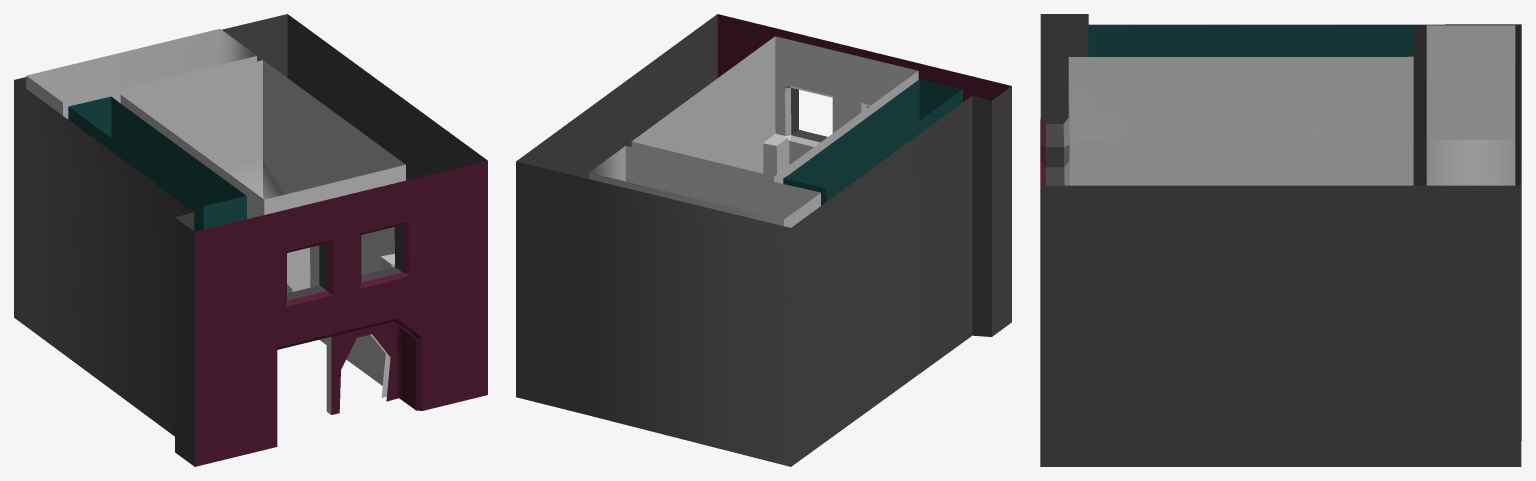
File: ShopWalls.fbx
3 renders of one model, left to right at view 1: azimuth 30°, elevation 25°; view 2: azimuth 150°, elevation 25°; view 3: azimuth 270°, elevation 25°, orthographic. The views are drawn at different scales.
Visible parts, largest first — view 1: polySurface65; view 2: polySurface65; view 3: polySurface65.
Boxes of the visible parts, x1,y1,x2,y2 form: polySurface65: (14, 14, 487, 466); polySurface65: (516, 14, 1011, 466); polySurface65: (1040, 14, 1521, 466).
Size of the model in its own units: 937 by 744 by 1111.
